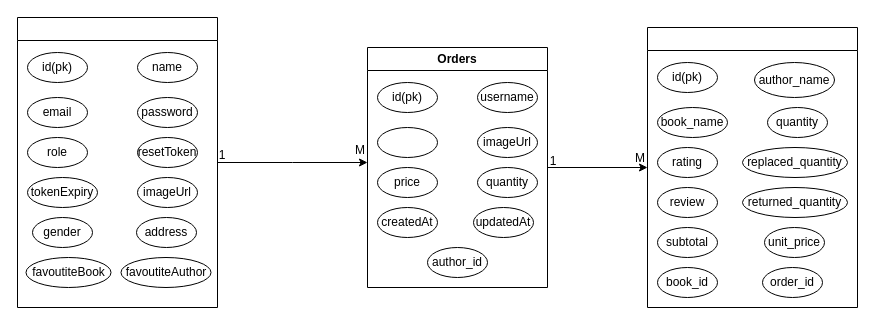
This 875x325 diagram has some shape labels left out. The box of each missing label's shape, as (x1, y1, x2, y2) in pixels:
description: (376, 126, 438, 158)
OrderItem: (646, 26, 858, 308)
User: (16, 16, 218, 308)
